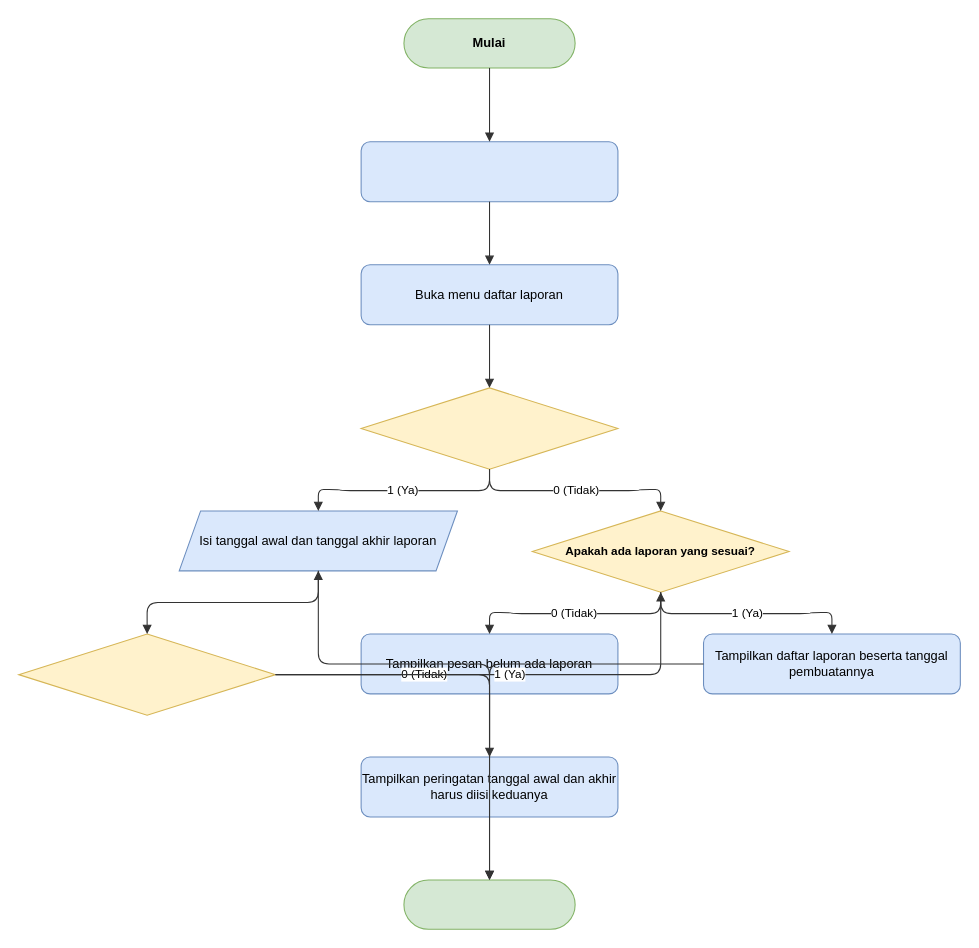
This 979x948 diagram has some shape labels left out. The shapes that lost their labels are listed below. From the top down, each one's centre as x and y in pixels, then its label:
At point (489, 171): "Masuk sebagai Admin".
At point (489, 428): "Apakah ingin menyaring laporan berdasarkan rentang tanggal?".
At point (147, 674): "Apakah kedua tanggal sudah diisi lengkap?".
At point (489, 904): "Selesai".
